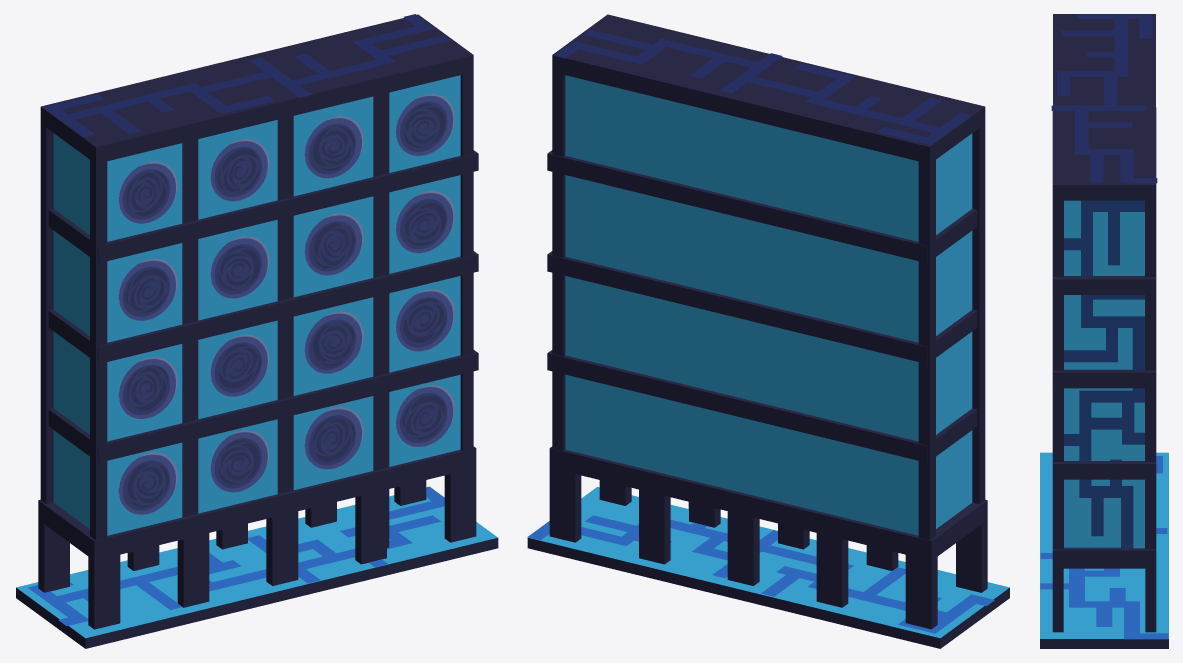
Rendered from 2026-1-8-CarbonCapture-v009.fbx.
3 renders of one model, left to right at view 1: azimuth 30°, elevation 25°; view 2: azimuth 150°, elevation 25°; view 3: azimuth 270°, elevation 25°, orthographic. The views are drawn at different scales.
Parts seen in each view (by area): view 1: Cube.011; view 2: Cube.011; view 3: Cube.011.
Part boxes in pixels (box(x1,y1,x2,y2)): Cube.011: box(16, 14, 498, 648); Cube.011: box(527, 14, 1009, 648); Cube.011: box(1040, 14, 1168, 648).
Size of the model in its own units: 299 by 339 by 86.75.
Materials: 7 (1 with a texture image).
